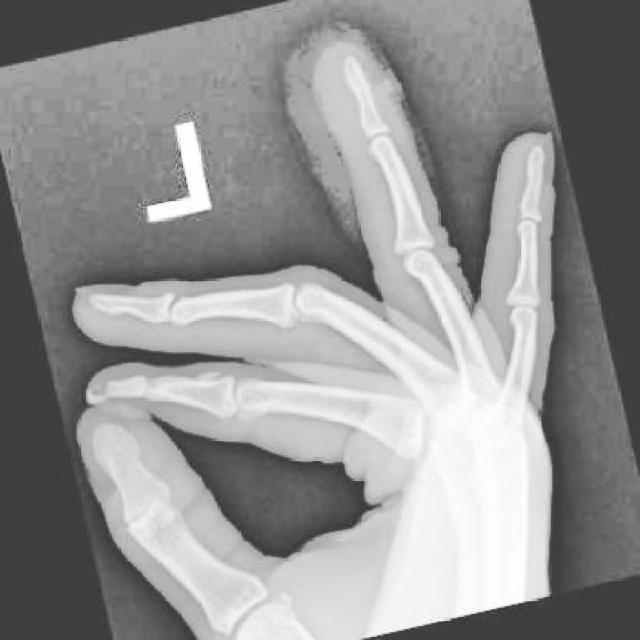Fracture: (77, 363, 117, 409)
